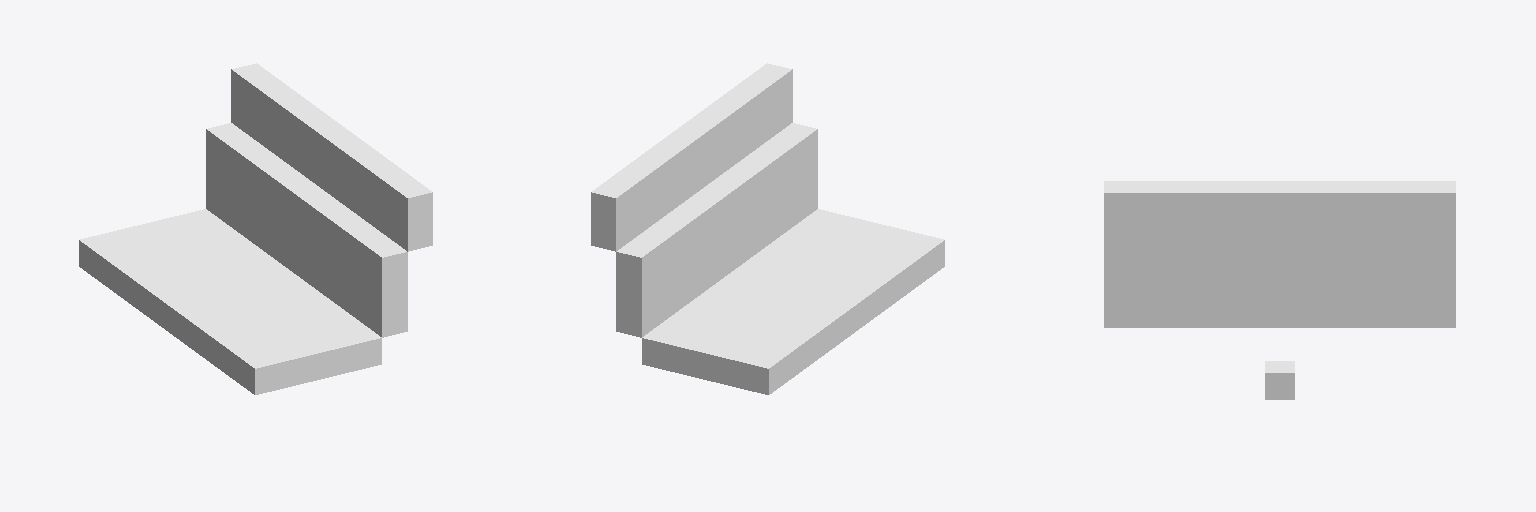
File: map1.24.vox.obj
3 renders of one model, left to right at view 1: azimuth 30°, elevation 25°; view 2: azimuth 150°, elevation 25°; view 3: azimuth 270°, elevation 25°, orthographic.
Visible parts, largest first — view 1: object 1; view 2: object 1; view 3: object 1.
Part boxes in pixels (bbox=[...]): object 1: bbox=[79, 63, 432, 394]; object 1: bbox=[591, 63, 944, 394]; object 1: bbox=[1104, 181, 1455, 399].
Size of the model in its own units: 14 by 16 by 24.